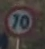limite 70: (2, 4, 36, 37)
